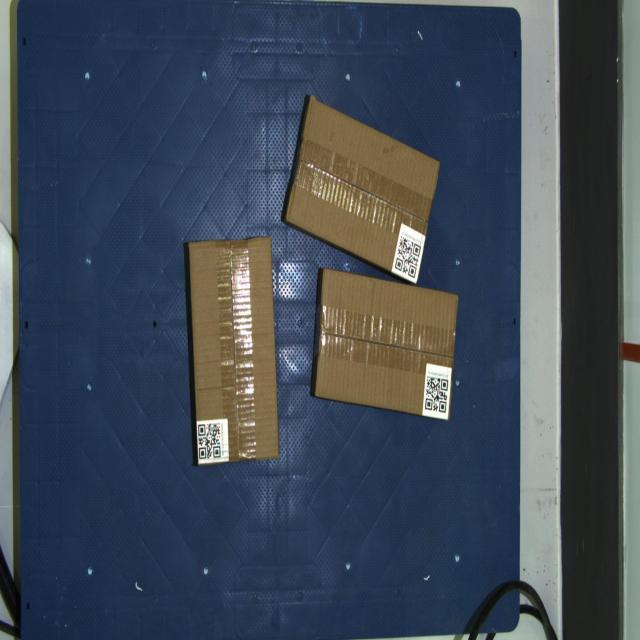box: (286, 97, 440, 285), (316, 268, 460, 421), (188, 236, 280, 466)
